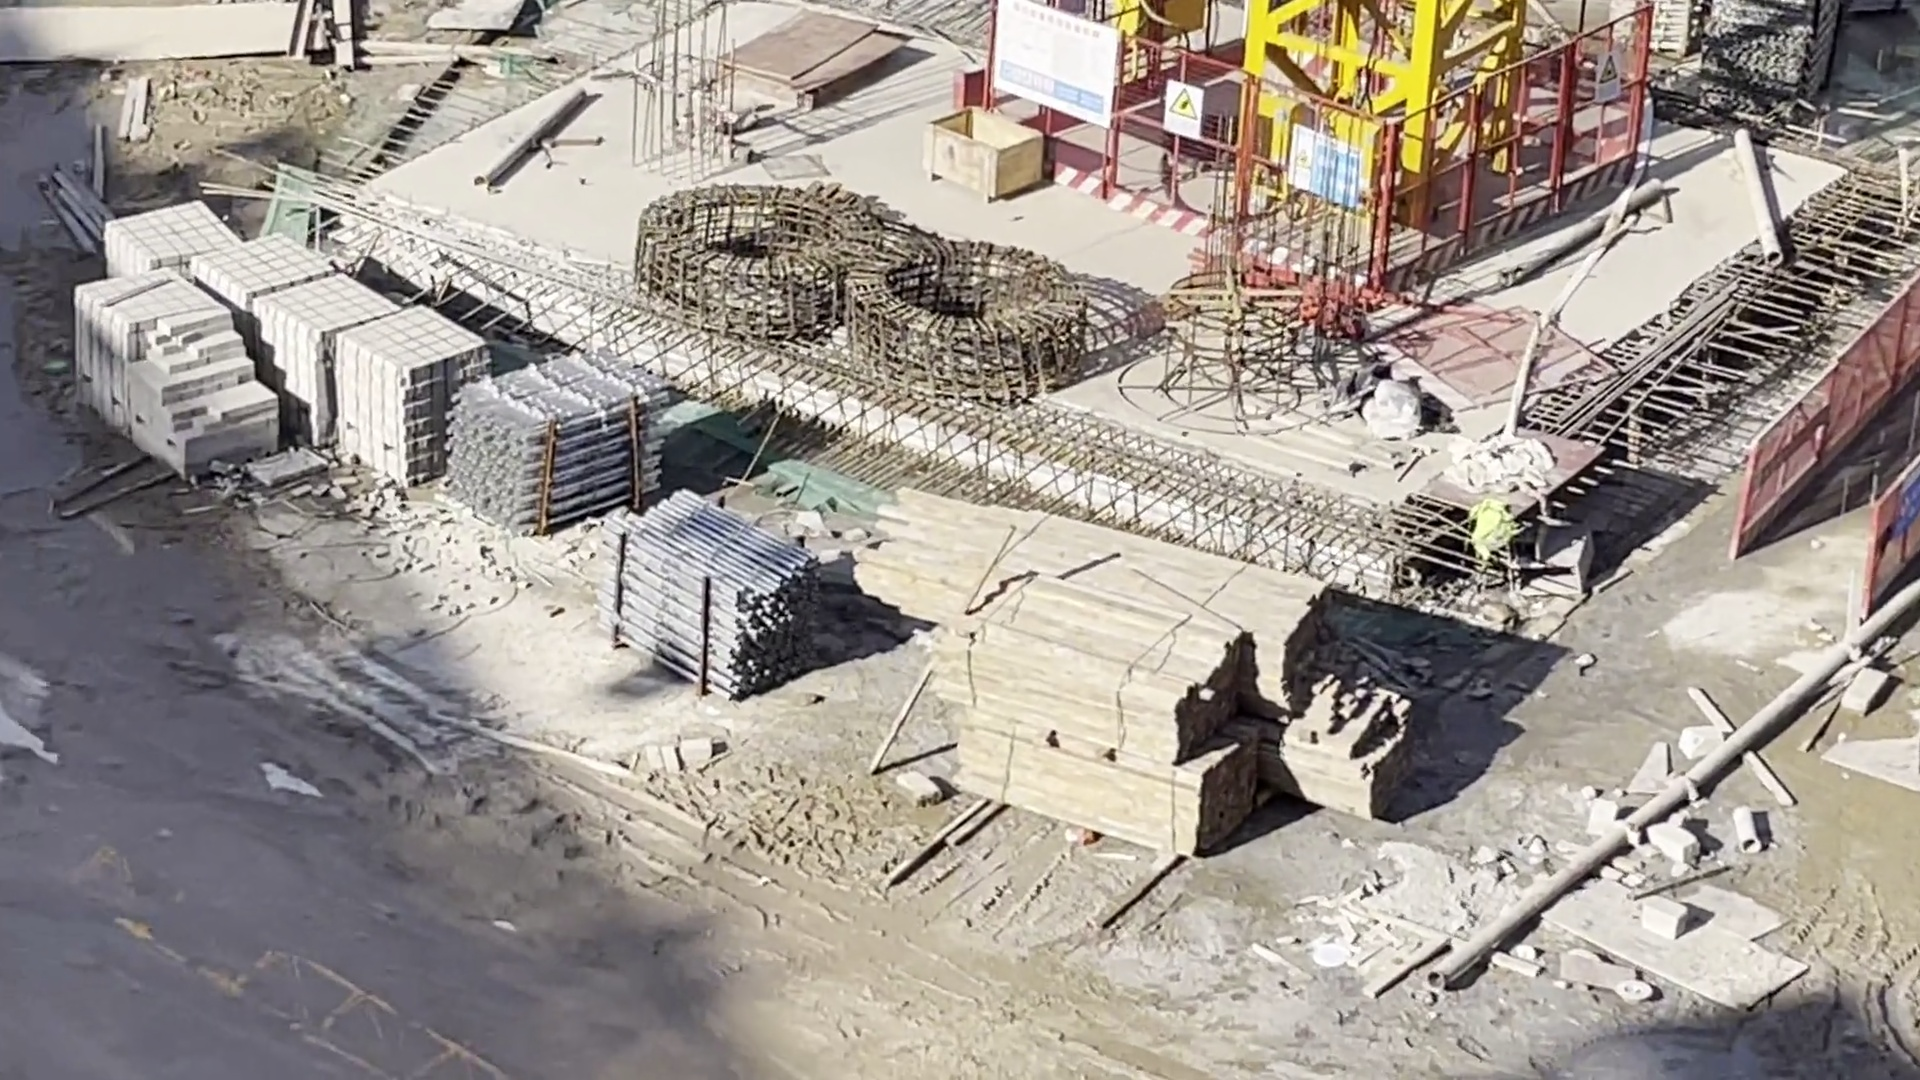board: (715, 7, 919, 115)
brick: (78, 208, 433, 476)
scaffold: (597, 506, 827, 684), (448, 361, 662, 522)
wood: (1007, 506, 1433, 841)
